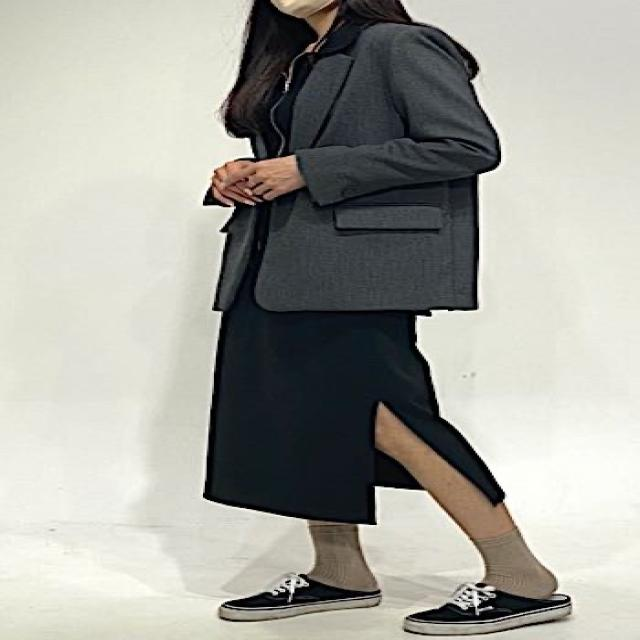blazer: (209, 23, 500, 311)
skirt: (202, 241, 504, 524)
